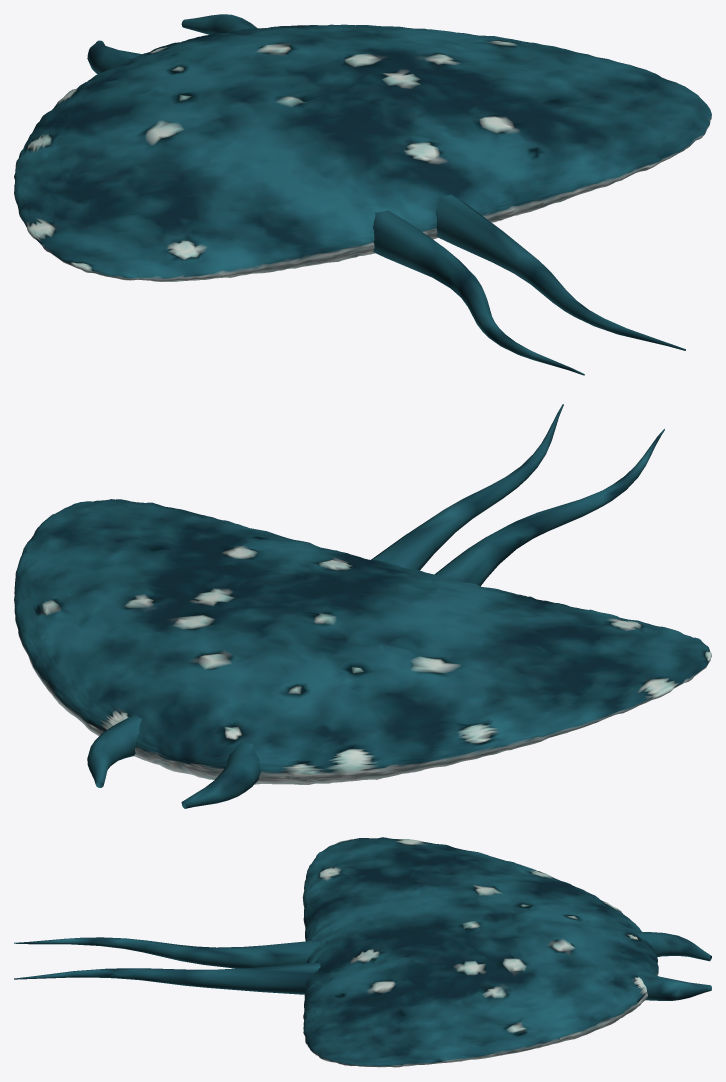
File: drovani_large.glb
3 views of the same model, one above another, from view 1: azimuth 30°, elevation 25°; view 2: azimuth 150°, elevation 25°; view 3: azimuth 270°, elevation 25° (orthographic). The views are drawn at different scales.
Parts seen in each view (by area): view 1: drovani_large.001; view 2: drovani_large.001; view 3: drovani_large.001.
Part boxes in pixels (<box>): drovani_large.001: <box>14,14,711,375</box>; drovani_large.001: <box>14,404,711,808</box>; drovani_large.001: <box>14,837,711,1067</box>.
Bounding box in the file's own units: 7.72 × 1.2 × 10.
